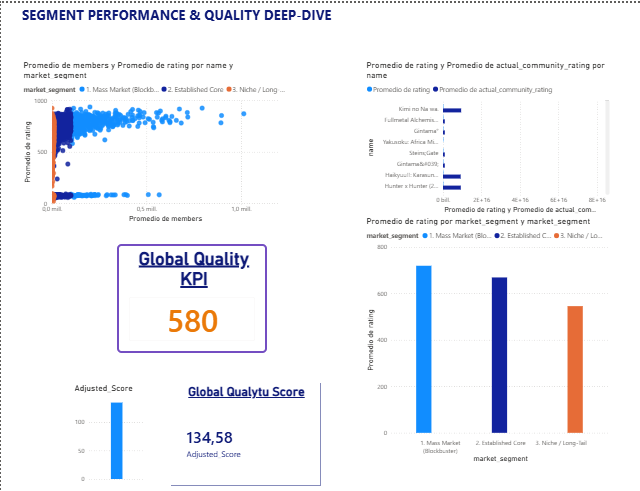

What the dashboard file says about the page in this screenshot:
{"tool":"powerbi","page":{"name":"Rating & Niches","canvas":[1280,1000],"ordinal":1},"visuals":[{"type":"scatterChart","fields":{"Category":["bi_anime_dashboard_data.name"],"Series":["bi_anime_dashboard_data.market_segment"],"Y":["Avg(bi_anime_dashboard_data.rating)"],"X":["Avg(bi_anime_dashboard_data.members)"]},"box":[40,114,542,330],"z":0},{"type":"clusteredColumnChart","fields":{"Category":["bi_anime_dashboard_data.market_segment"],"Y":["Avg(bi_anime_dashboard_data.rating)"],"Series":["bi_anime_dashboard_data.market_segment"]},"box":[726,426,496,498],"z":1000},{"type":"cardVisual","title":"                     Global Quality KPI","fields":{"Data":["Avg(bi_anime_dashboard_data.rating)"]},"box":[232,482,300,218],"z":2000},{"type":"textbox","box":[0,0,978,98],"z":3000},{"type":"clusteredBarChart","fields":{"Category":["bi_anime_dashboard_data.name"],"Y":["Avg(bi_anime_dashboard_data.rating)","Avg(bi_anime_dashboard_data.actual_community_rating)"]},"box":[726,114,496,312],"z":4000},{"type":"cardVisual","title":"Global Qualytu Score","fields":{"Data":["bi_anime_dashboard_data.Adjusted_Score"]},"box":[340,760,300,206],"z":5000},{"type":"clusteredColumnChart","fields":{"Y":["bi_anime_dashboard_data.Adjusted_Score"]},"box":[142,760,150,206],"z":6000}]}

Visuals, with their boxes in screenshot pixels (x1, y1, x2, y2), scaled from the page's 1280x1000 canvas onto the 640x491 screenshot:
scatterChart - bi_anime_dashboard_data.name x bi_anime_dashboard_data.market_segment: 20,56,291,218
clusteredColumnChart - bi_anime_dashboard_data.market_segment x Avg(bi_anime_dashboard_data.rating): 363,209,611,454
"                     Global Quality KPI" cardVisual: 116,237,266,344
textbox: 0,0,489,48
clusteredBarChart - bi_anime_dashboard_data.name x Avg(bi_anime_dashboard_data.rating): 363,56,611,209
"Global Qualytu Score" cardVisual: 170,373,320,474
clusteredColumnChart - bi_anime_dashboard_data.Adjusted_Score: 71,373,146,474
